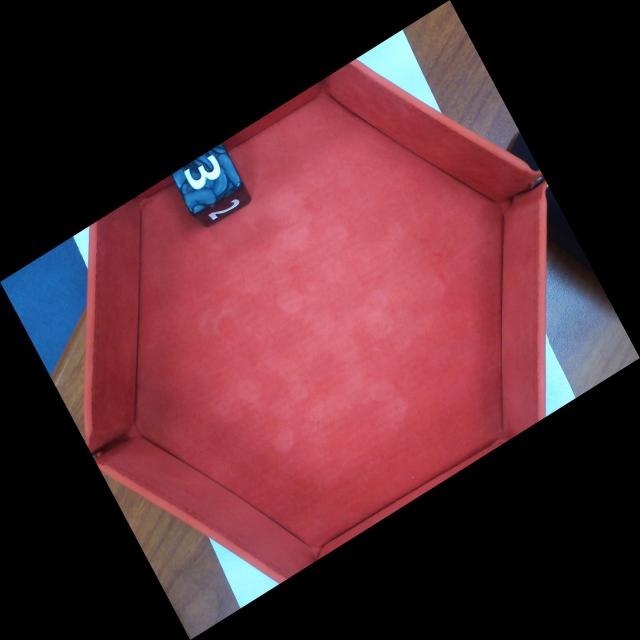dice: (172, 143, 243, 214)
